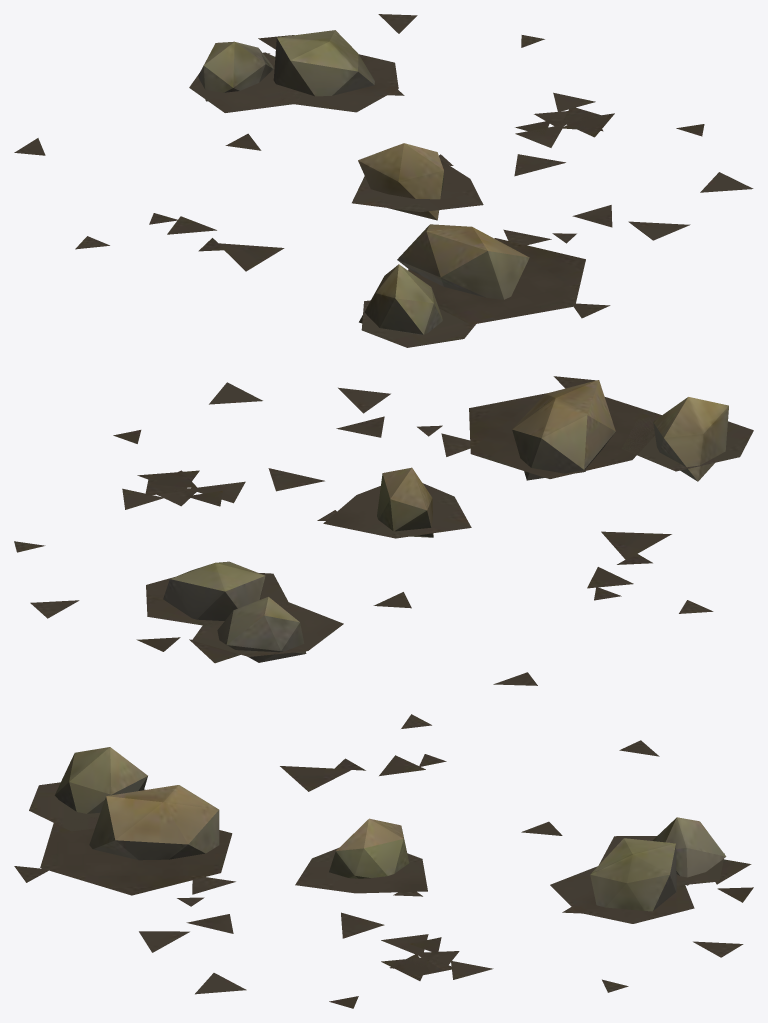
Rendered from stone-sparse.glb.
3 views of the same model, one above another, from view 1: azimuth 30°, elevation 25°; view 2: azimuth 150°, elevation 25°; view 3: azimuth 270°, elevation 25° (orthographic). The views are drawn at different scales.
Parts seen in each view (by area): view 1: stone-sparse; view 2: stone-sparse; view 3: stone-sparse.
Boxes of the visible parts, x1,y1,x2,y2 form: stone-sparse: (14,14,753,347); stone-sparse: (14,376,753,685); stone-sparse: (14,714,753,1008).
Bounding box in the file's own units: 1.17 × 0.1336 × 1.24.
1 material, 1 textured.
